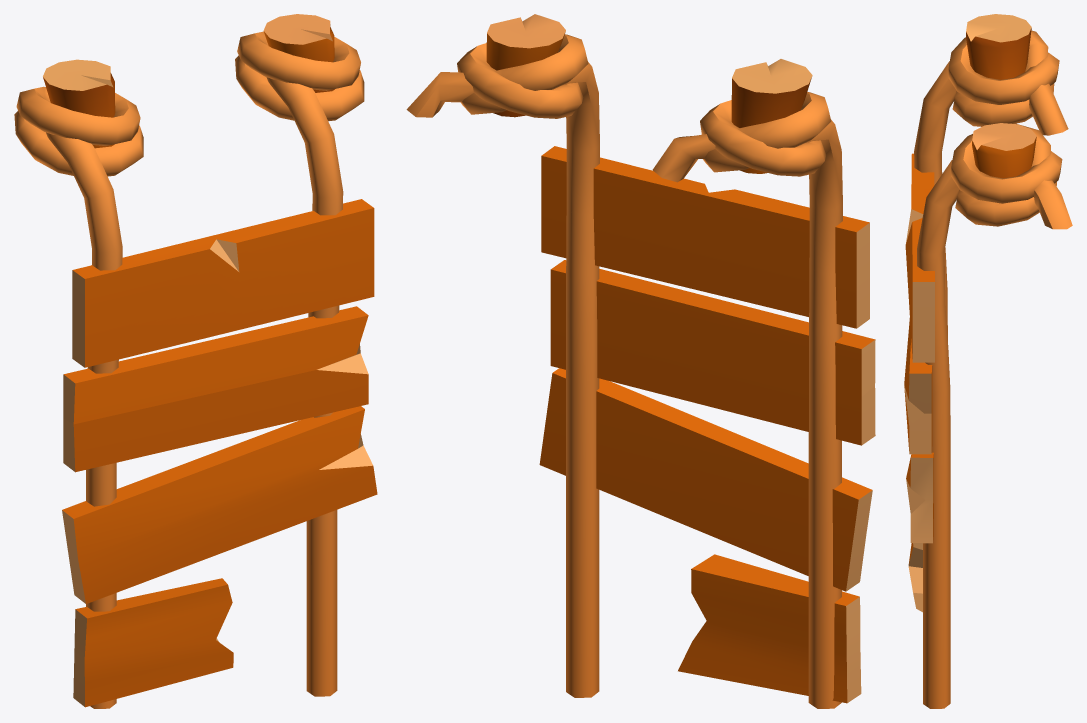
Rendered from Props_Broken_Rope_Bridge_01.glb.
The picture shows the model from 3 angles, left to right: view 1: azimuth 30°, elevation 25°; view 2: azimuth 150°, elevation 25°; view 3: azimuth 270°, elevation 25°; orthographic projection. The views are drawn at different scales.
Visible parts, largest first — view 1: Props_Broken_Rope_Bridge_01; view 2: Props_Broken_Rope_Bridge_01; view 3: Props_Broken_Rope_Bridge_01.
Boxes of the visible parts, x1,y1,x2,y2 form: Props_Broken_Rope_Bridge_01: [14, 14, 377, 708]; Props_Broken_Rope_Bridge_01: [406, 14, 875, 708]; Props_Broken_Rope_Bridge_01: [904, 14, 1072, 708].
Size of the model in its own units: 1.27 by 2.22 by 0.581.
Materials: 1 (1 with a texture image).
